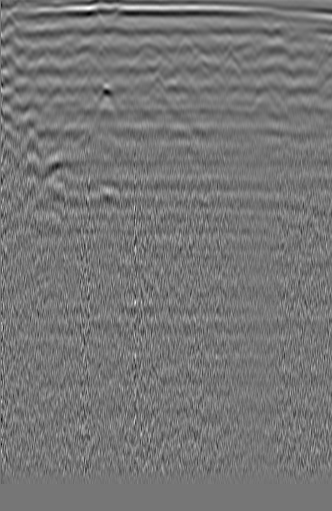가스: (89, 177, 125, 208)
상수: (11, 42, 34, 63)
오수: (303, 42, 329, 68)
우수: (129, 34, 175, 67)
